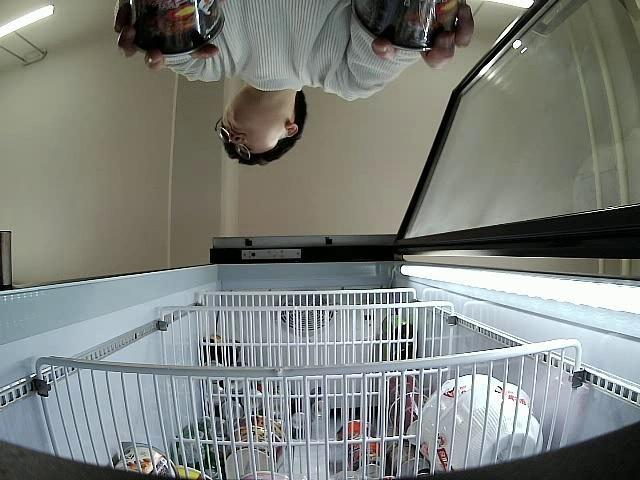08_buldak_S: (349, 0, 463, 58), (122, 0, 225, 60)
